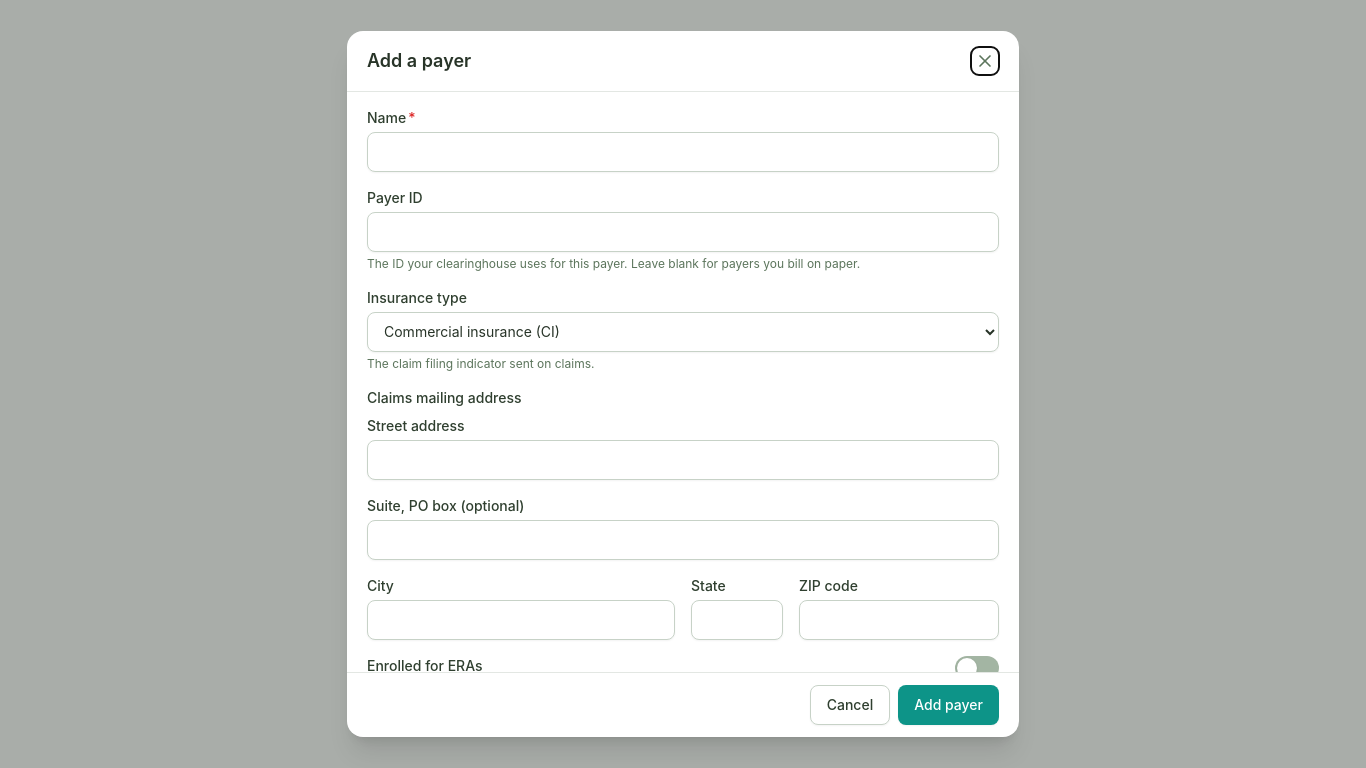
Test: adding a payer › has no search without a clearinghouse, and needs a name
This screenshot has width=1366, height=768.
What coordinates should you click on to do the following:
click the button "Add payer"
I would click on:
 (949, 705)
Its box is [898,685,999,725].
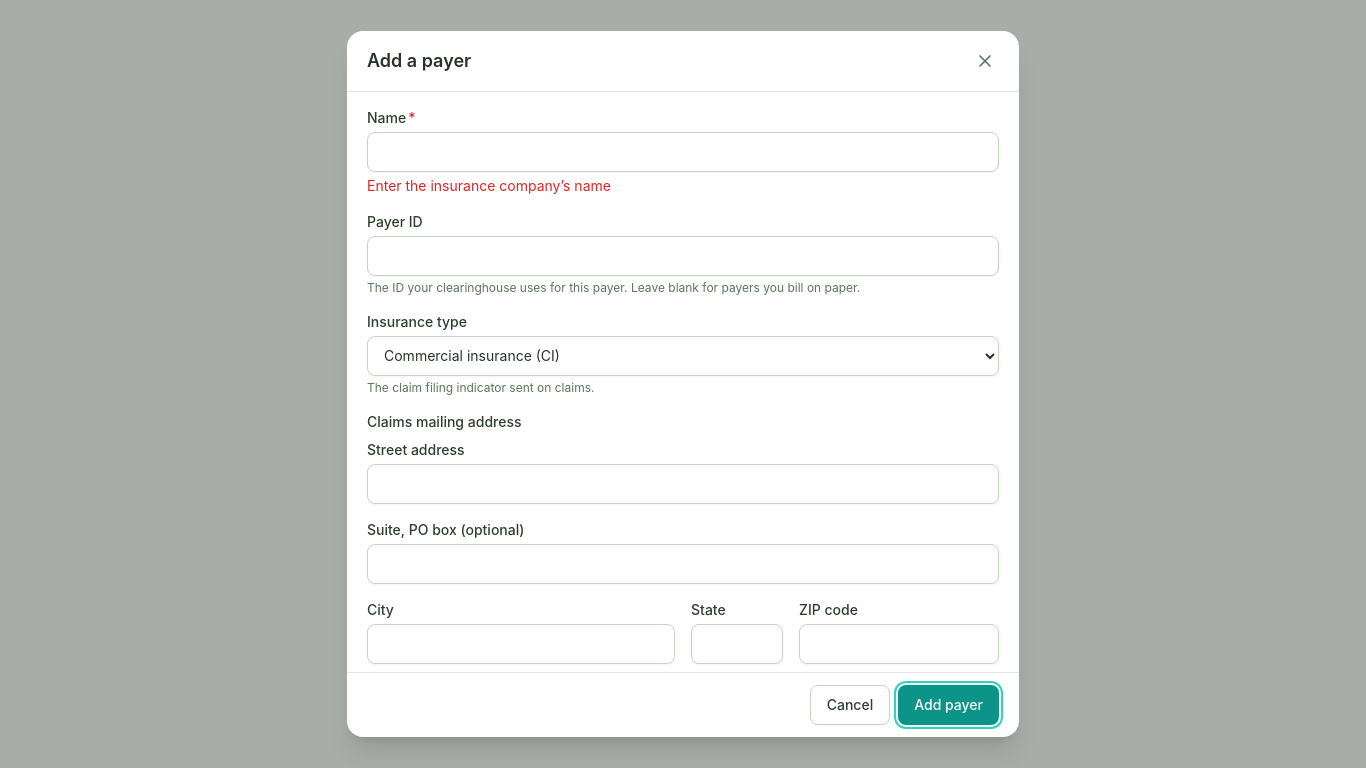
Check: the text "Enter the insurance company’s name" is shown, box [367,177,611,194]
